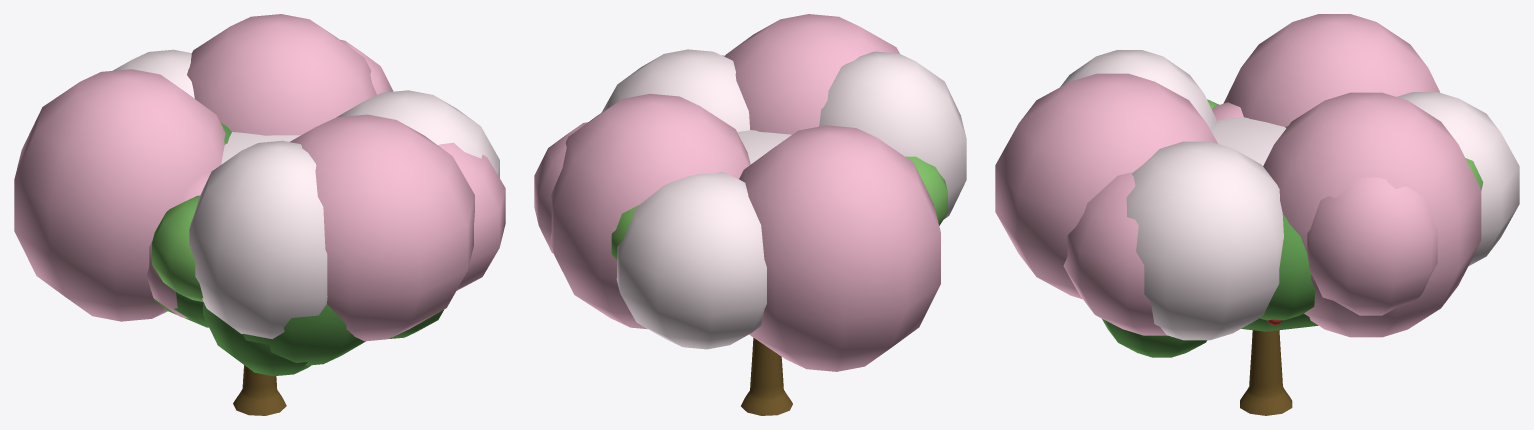
File: crabapple_1.glb
The picture shows the model from 3 angles, left to right: view 1: azimuth 30°, elevation 25°; view 2: azimuth 150°, elevation 25°; view 3: azimuth 270°, elevation 25°; orthographic projection. The views are drawn at different scales.
Visible parts, largest first — view 1: crown, trunk; view 2: crown, trunk; view 3: crown, trunk.
Boxes of the visible parts, x1,y1,x2,y2 form: crown: [14, 14, 505, 376]; trunk: [233, 365, 286, 415]; crown: [534, 14, 966, 371]; trunk: [741, 338, 792, 415]; crown: [995, 14, 1519, 357]; trunk: [1240, 330, 1292, 415].
Size of the model in its own units: 2.45 by 2 by 2.83.
